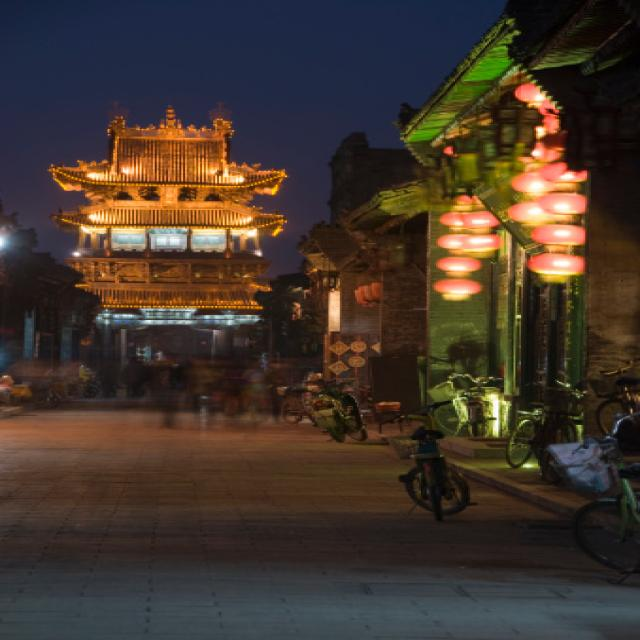Bicycle: (538, 352, 640, 560), (378, 414, 530, 541), (301, 366, 378, 466)
